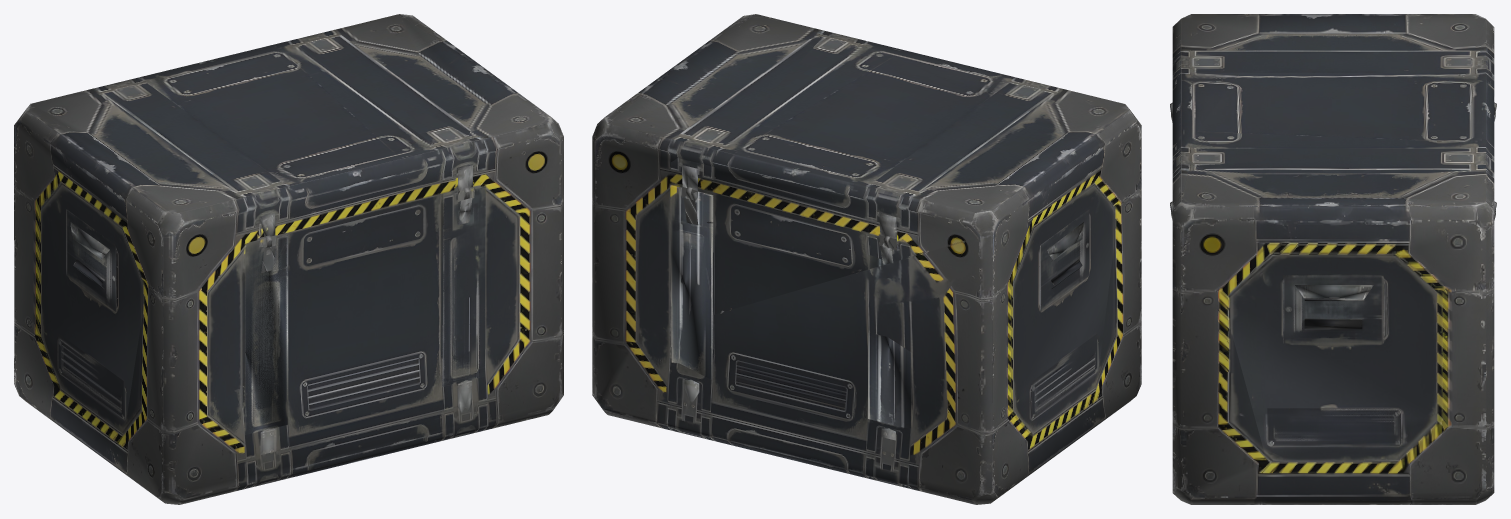
File: crate_large.glb
3 renders of one model, left to right at view 1: azimuth 30°, elevation 25°; view 2: azimuth 150°, elevation 25°; view 3: azimuth 270°, elevation 25°, orthographic. The views are drawn at different scales.
Visible parts, largest first — view 1: crate_large; view 2: crate_large; view 3: crate_large.
Part boxes in pixels (<box>): crate_large: <box>14,14,563,504</box>; crate_large: <box>592,14,1141,504</box>; crate_large: <box>1170,14,1496,504</box>.
Bounding box in the file's own units: 3 × 2.08 × 2.06.
Materials: 1 (1 with a texture image).
